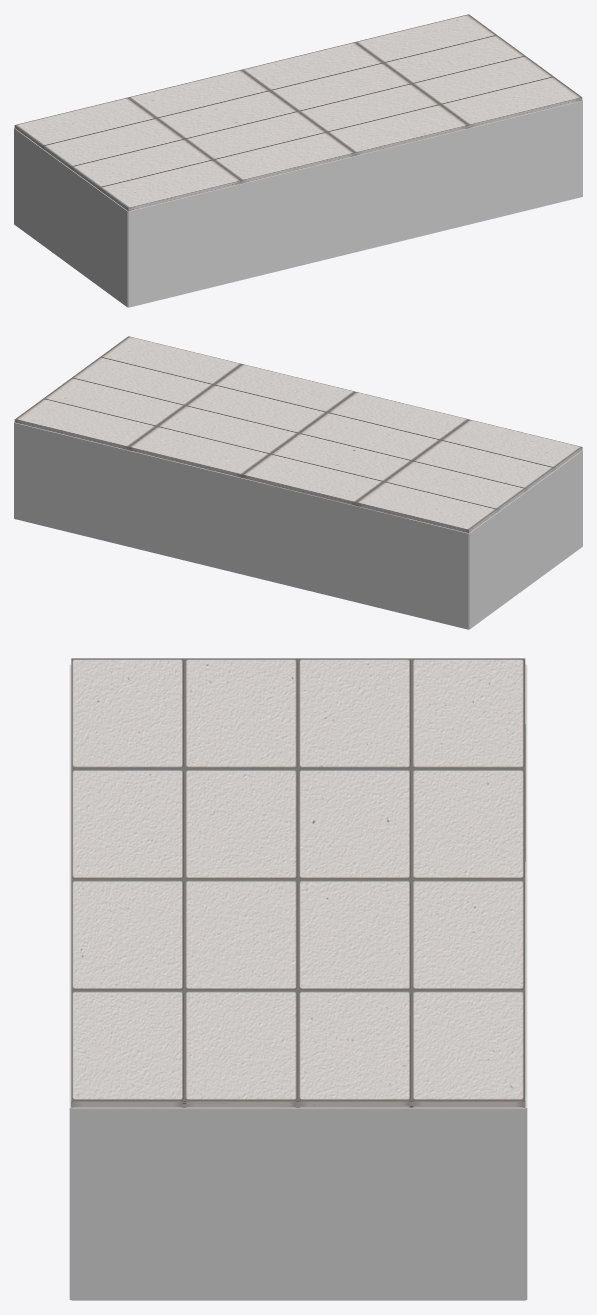
The model's file is AulaBienterminada.fbx.
The picture shows the model from 3 angles, top to bottom: view 1: azimuth 30°, elevation 25°; view 2: azimuth 150°, elevation 25°; view 3: azimuth 270°, elevation 25°; orthographic projection. The views are drawn at different scales.
Parts seen in each view (by area): view 1: ParedesSimples, Techo; view 2: ParedesSimples, Techo; view 3: Techo, ParedesSimples.
Boxes of the visible parts, bbox=[...] form: ParedesSimples: bbox=[14, 100, 582, 307]; Techo: bbox=[14, 14, 582, 211]; ParedesSimples: bbox=[14, 422, 582, 629]; Techo: bbox=[14, 336, 582, 533]; Techo: bbox=[71, 658, 525, 1107]; ParedesSimples: bbox=[69, 664, 527, 1300].
Size of the model in its own units: 2752 by 573 by 1197.
